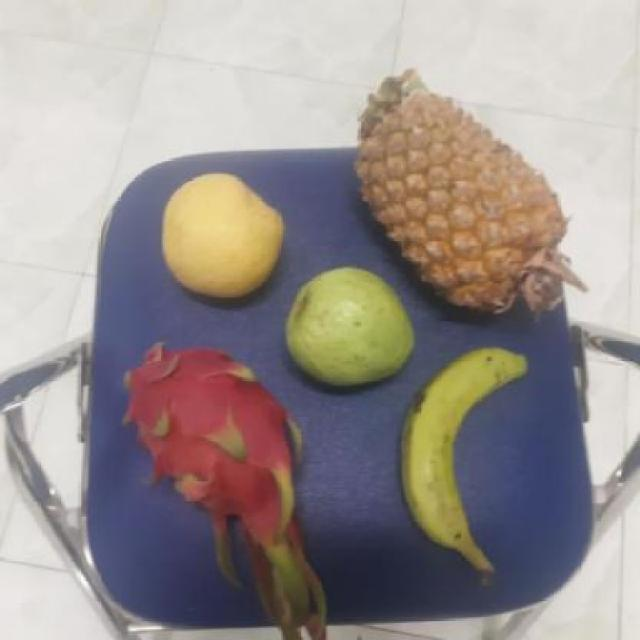banana: (397, 346, 528, 556)
dragon fruit: (112, 347, 306, 550)
guava: (278, 268, 414, 384)
pear: (154, 166, 288, 302)
pineapple: (348, 80, 570, 312)
